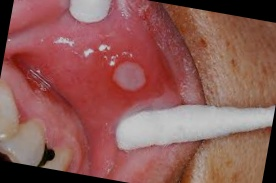Ulcer: (105, 51, 161, 97)
